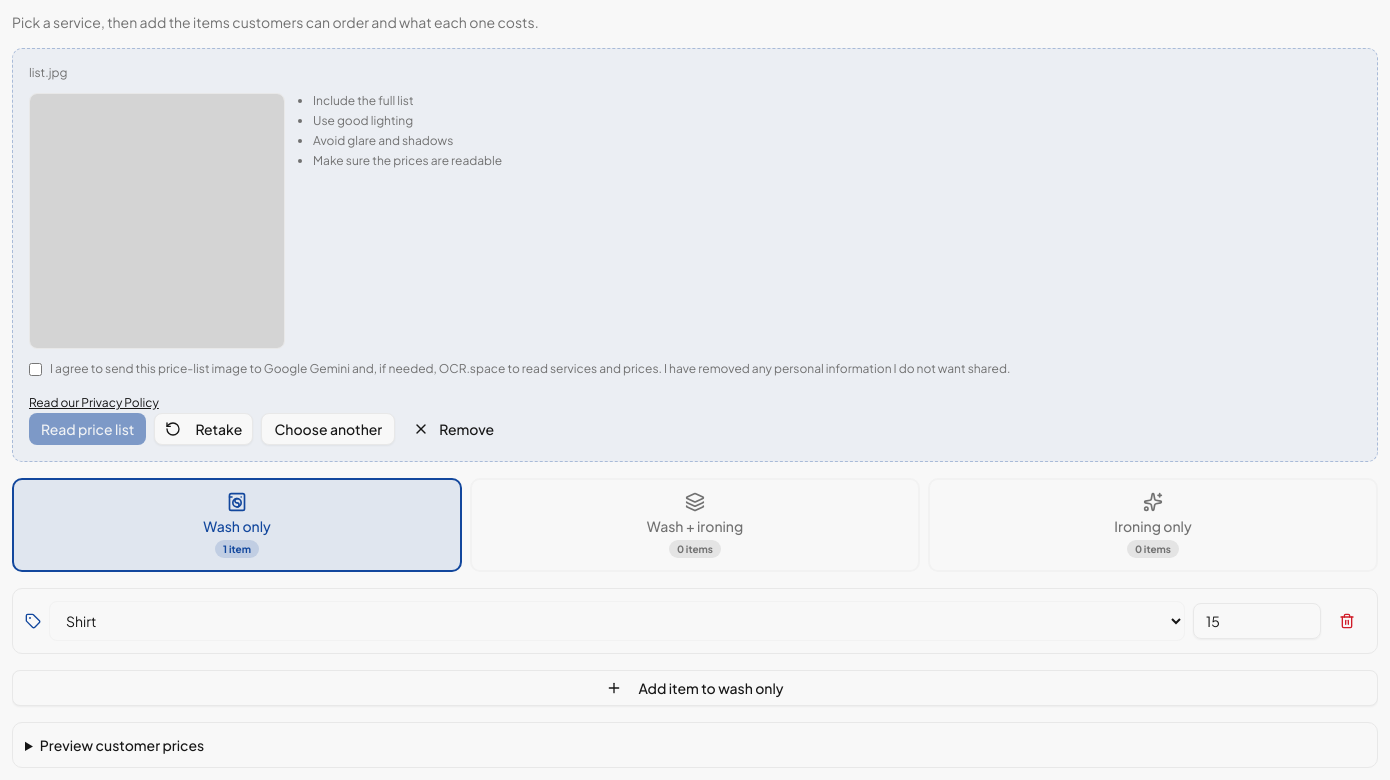
onboarding: scan fills the existing pricing form (nothing saved) › existing Shirt GH₵15 is kept unless the owner picks the detected GH₵18
Earlier steps of the test are not shown.
Later steps or results of the test are not shown.
Click the checkbox labelled "agree to send this price-list image" at (36, 370), box [29,363,42,376]
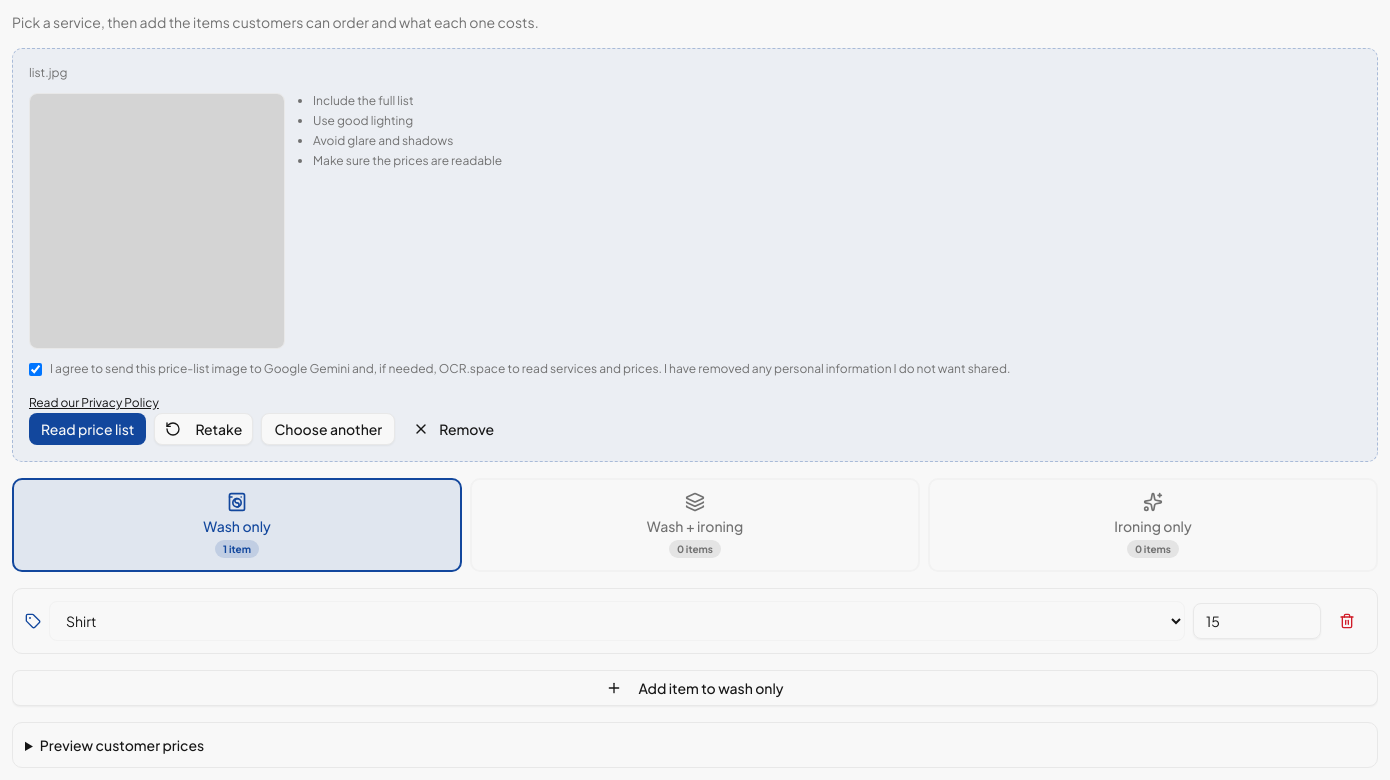
Click the button "Read price list" at (88, 429), box [29,413,146,445]
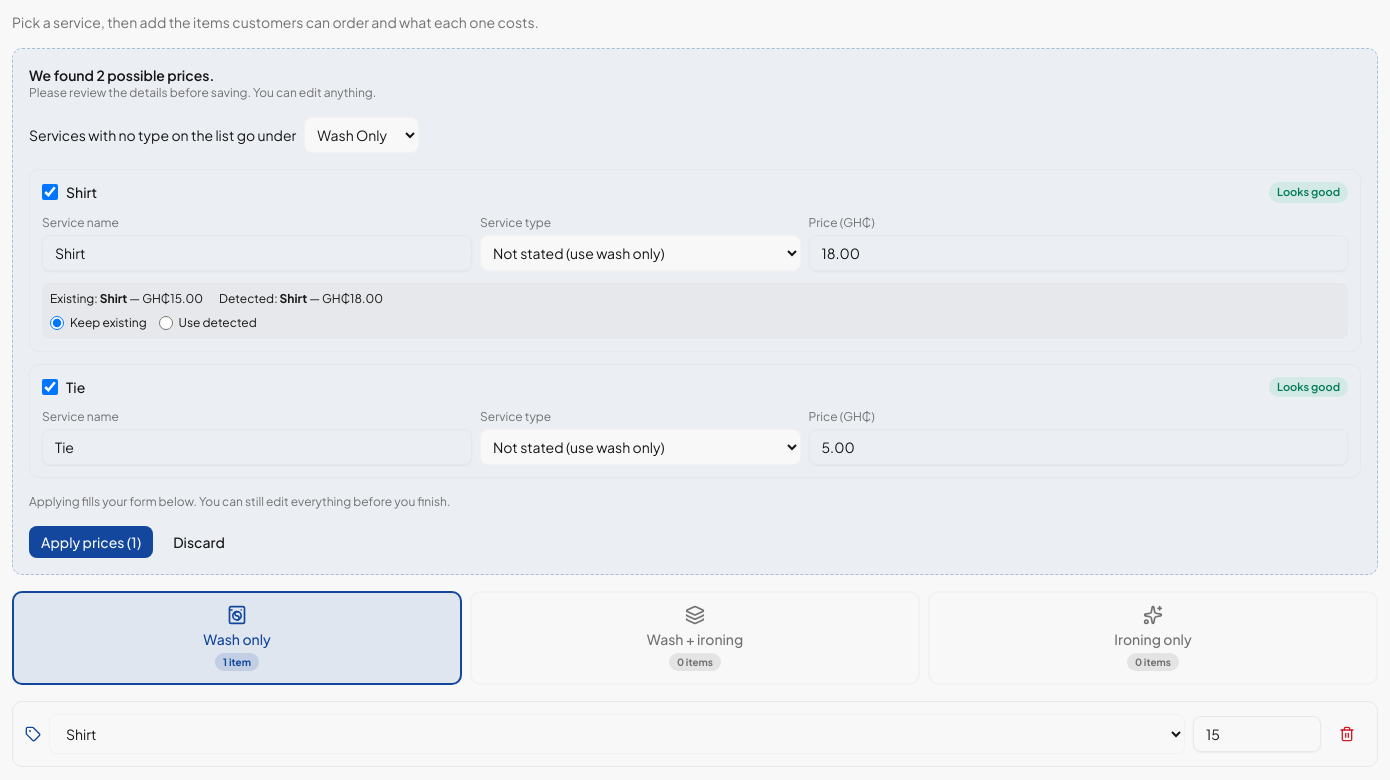
Check: the text "Existing: Shirt — GH₵15.00" is shown, box [50,290,203,306]
Click the button "Apply prices (1)" at (91, 542), box [29,526,153,558]
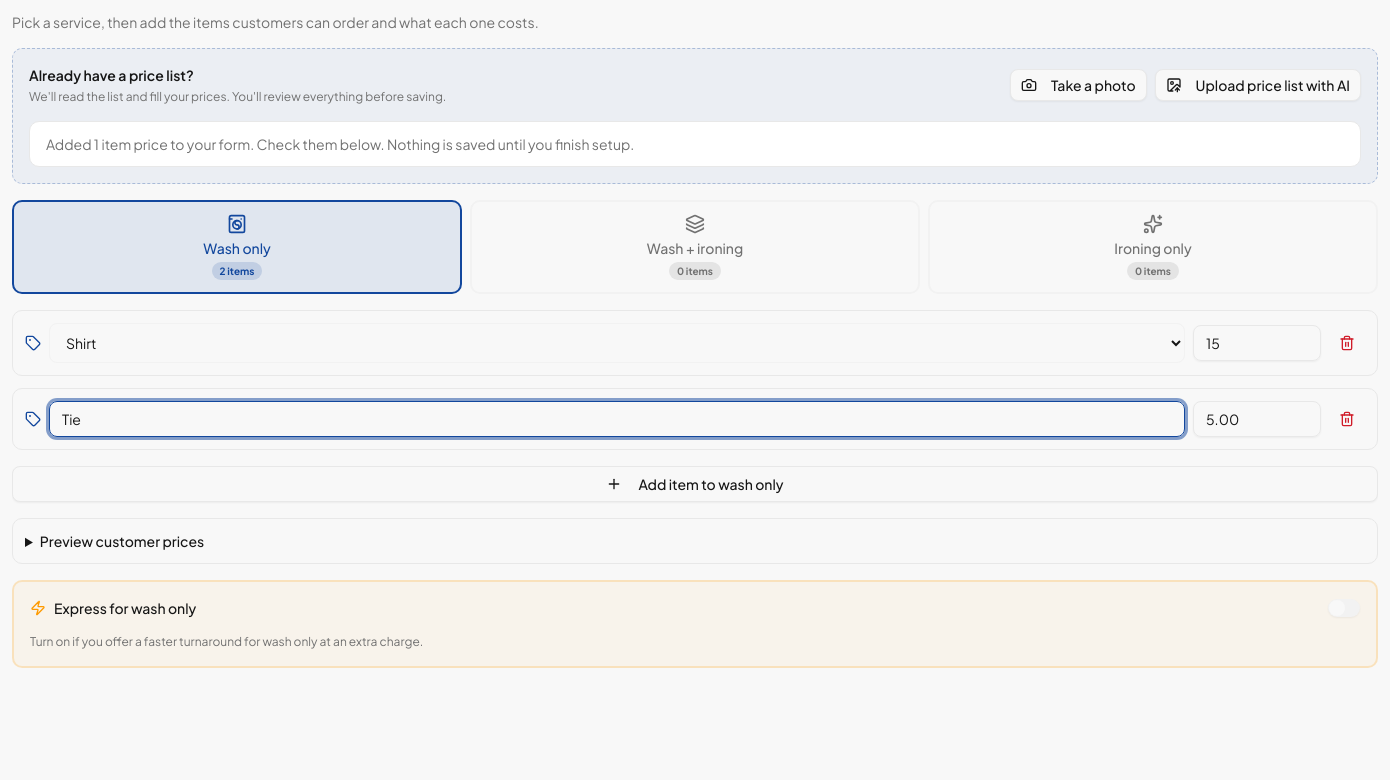
Check: the text "to your form" is shown, box [46,135,634,153]
